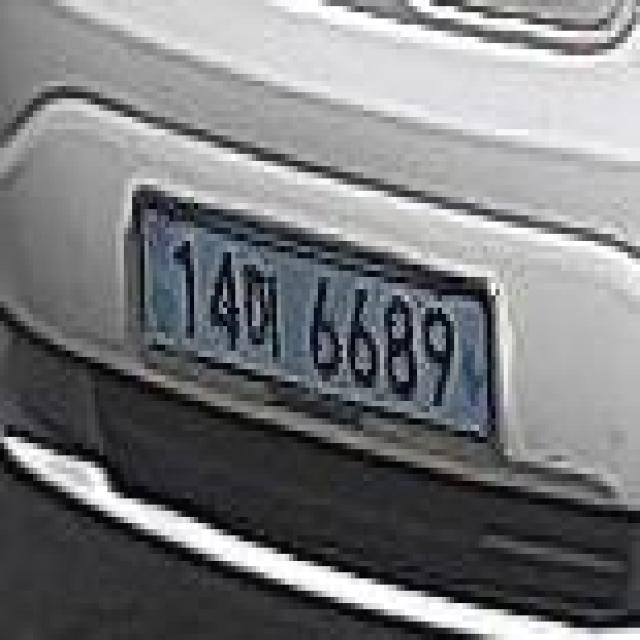EV_plate: (130, 169, 508, 464)
